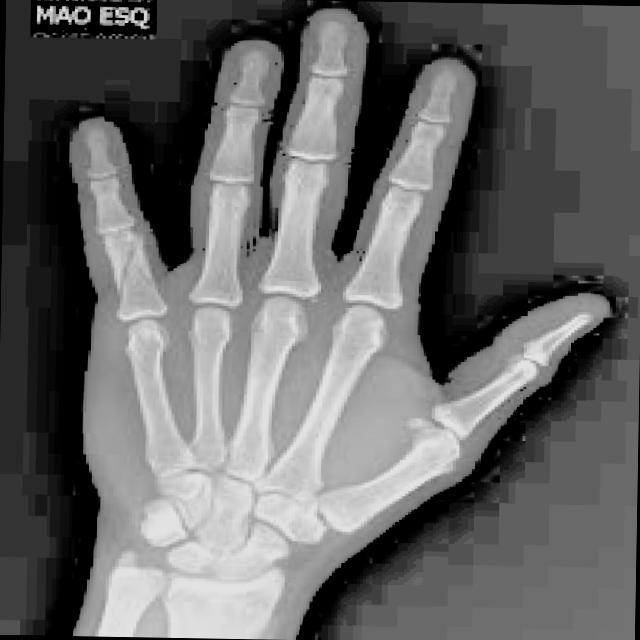Comminuted Fracture: (108, 230, 155, 309), (399, 408, 439, 443)
